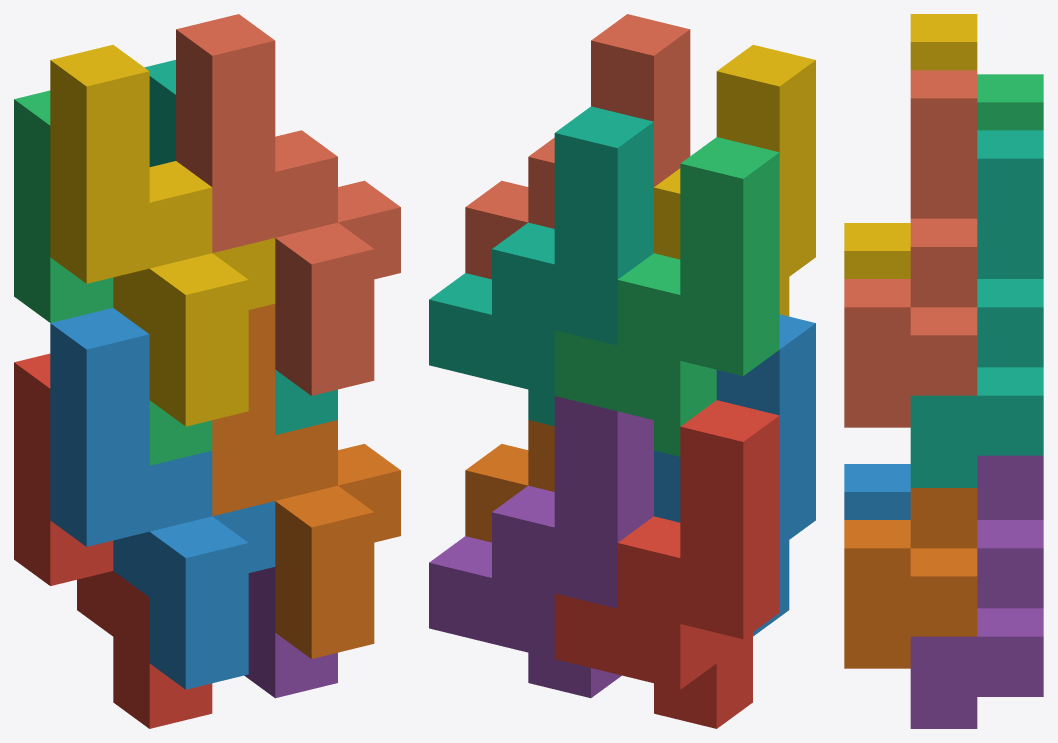
File: tiling.obj
The picture shows the model from 3 angles, left to right: view 1: azimuth 30°, elevation 25°; view 2: azimuth 150°, elevation 25°; view 3: azimuth 270°, elevation 25°; orthographic projection. The views are drawn at different scales.
Visible parts, largest first — view 1: copy_1_domain_4, copy_1_domain_2, copy_1_domain_8, copy_1_domain_6, copy_1_domain_1, copy_1_domain_3, copy_1_domain_5, copy_1_domain_7; view 2: copy_1_domain_1, copy_1_domain_3, copy_1_domain_7, copy_1_domain_5, copy_1_domain_8, copy_1_domain_4, copy_1_domain_2, copy_1_domain_6; view 3: copy_1_domain_8, copy_1_domain_7, copy_1_domain_5, copy_1_domain_6, copy_1_domain_4, copy_1_domain_3, copy_1_domain_2.
Part boxes in pixels (x1,y1,x2,y2): copy_1_domain_4: [50, 45, 275, 426]; copy_1_domain_2: [50, 308, 275, 689]; copy_1_domain_8: [176, 14, 400, 395]; copy_1_domain_6: [212, 304, 400, 658]; copy_1_domain_1: [14, 353, 212, 728]; copy_1_domain_3: [14, 90, 212, 465]; copy_1_domain_5: [244, 567, 337, 698]; copy_1_domain_7: [144, 60, 337, 434]; copy_1_domain_1: [554, 400, 779, 728]; copy_1_domain_3: [554, 137, 779, 456]; copy_1_domain_7: [429, 106, 653, 426]; copy_1_domain_5: [429, 396, 653, 698]; copy_1_domain_8: [465, 14, 690, 279]; copy_1_domain_4: [654, 44, 815, 316]; copy_1_domain_2: [654, 314, 815, 636]; copy_1_domain_6: [465, 420, 554, 542]; copy_1_domain_8: [844, 70, 977, 427]; copy_1_domain_7: [910, 130, 1043, 487]; copy_1_domain_5: [910, 455, 1043, 728]; copy_1_domain_6: [844, 488, 977, 668]; copy_1_domain_4: [844, 14, 977, 278]; copy_1_domain_3: [977, 74, 1043, 130]; copy_1_domain_2: [844, 464, 910, 519].
Bounding box in the file's own units: 5 × 10 × 3.
